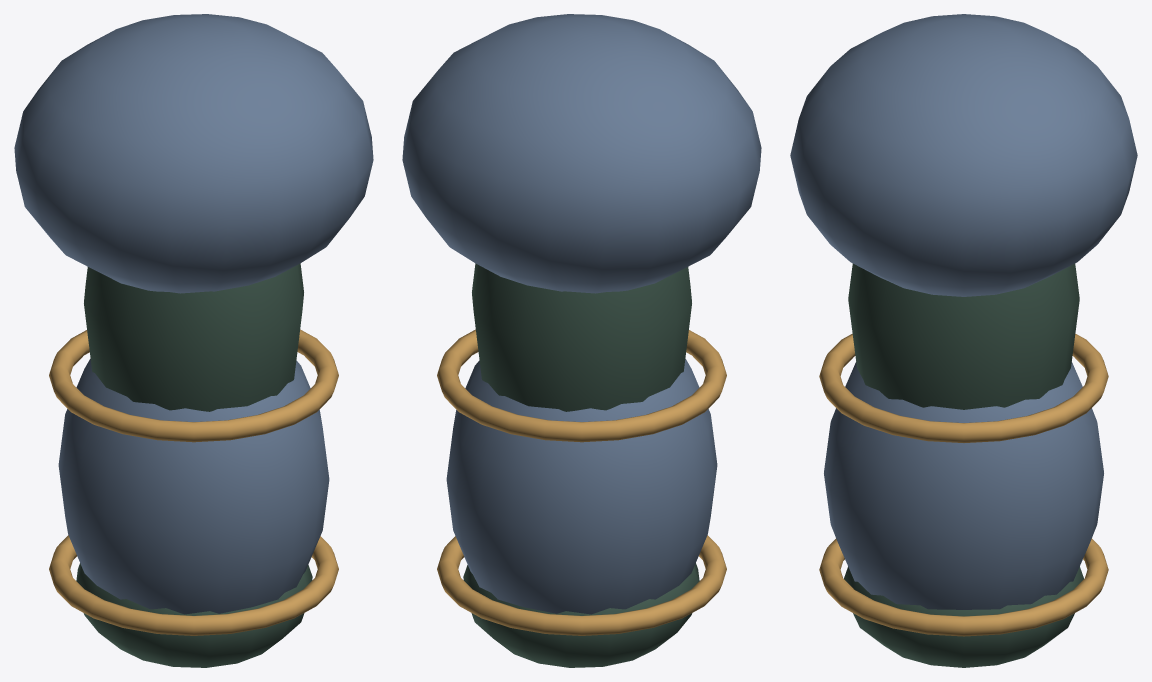
Rendered from ArmorArm.fbx.
3 renders of one model, left to right at view 1: azimuth 30°, elevation 25°; view 2: azimuth 150°, elevation 25°; view 3: azimuth 270°, elevation 25°, orthographic.
Parts seen in each view (by area): view 1: Pauldrons_export, Bracer_export, Gambeson sleeve_export, Armor rim.001_export, Armor rim_export, Glove_export; view 2: Pauldrons_export, Bracer_export, Gambeson sleeve_export, Armor rim.001_export, Armor rim_export, Glove_export; view 3: Pauldrons_export, Bracer_export, Gambeson sleeve_export, Armor rim.001_export, Armor rim_export, Glove_export.
Boxes of the visible parts, bbox=[...] form: Pauldrons_export: bbox=[14, 14, 373, 293]; Bracer_export: bbox=[58, 358, 329, 614]; Gambeson sleeve_export: bbox=[84, 263, 303, 411]; Armor rim.001_export: bbox=[49, 329, 338, 442]; Armor rim_export: bbox=[49, 535, 338, 635]; Glove_export: bbox=[76, 563, 312, 667]; Pauldrons_export: bbox=[402, 14, 761, 293]; Bracer_export: bbox=[446, 358, 717, 614]; Gambeson sleeve_export: bbox=[472, 263, 691, 411]; Armor rim.001_export: bbox=[437, 329, 726, 442]; Armor rim_export: bbox=[437, 535, 726, 635]; Glove_export: bbox=[463, 563, 699, 667]; Pauldrons_export: bbox=[790, 14, 1137, 296]; Bracer_export: bbox=[824, 362, 1103, 609]; Gambeson sleeve_export: bbox=[848, 263, 1079, 409]; Armor rim.001_export: bbox=[819, 333, 1108, 442]; Armor rim_export: bbox=[819, 538, 1108, 636]; Glove_export: bbox=[844, 566, 1083, 667].
Bounding box in the file's own units: 120 × 223 × 114.
